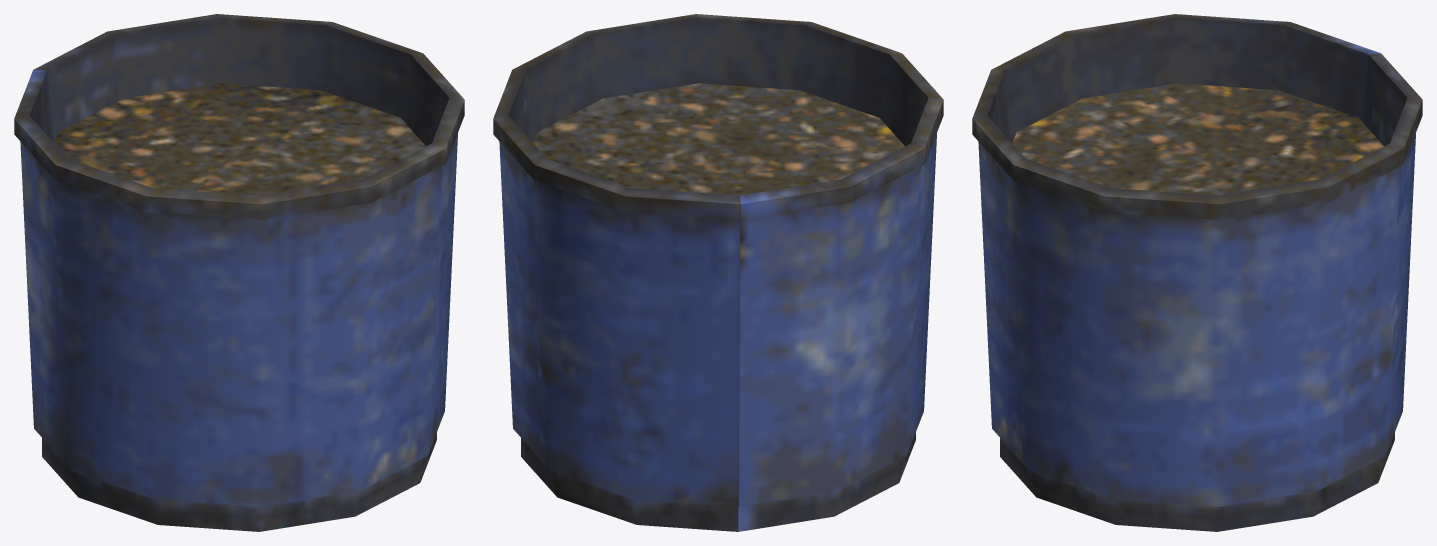
Rendered from barrel.glb.
The picture shows the model from 3 angles, left to right: view 1: azimuth 30°, elevation 25°; view 2: azimuth 150°, elevation 25°; view 3: azimuth 270°, elevation 25°; orthographic projection.
Bounding box in the file's own units: 0.651 × 0.545 × 0.651.
1 material, 1 textured.
